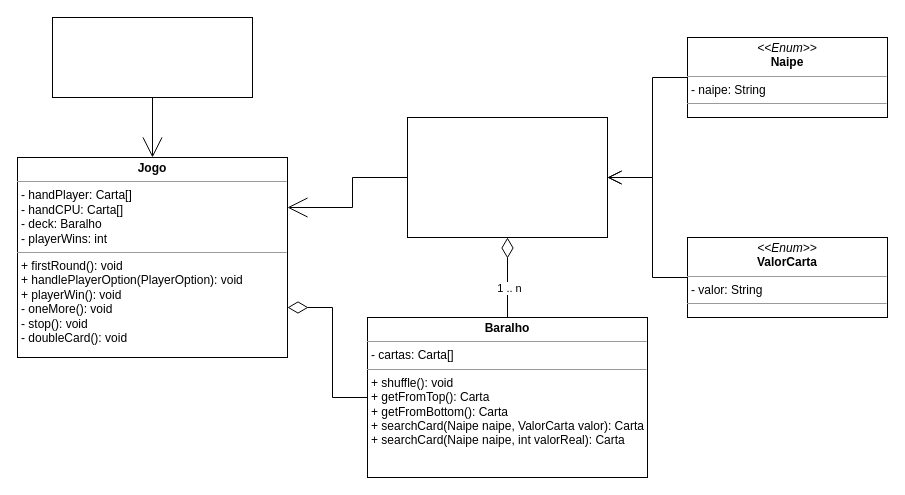
Image size: 905x495. Some labels were removed from this diagram. The box of each missing label's shape, as (x1, y1, x2, y2) in pixels:
<<Enum>> PlayerOption - value: int - description: String: (52, 16, 252, 98)
Carta - naipe: Naipe - valor: ValorCarta - valorReal: int: (406, 116, 608, 238)
